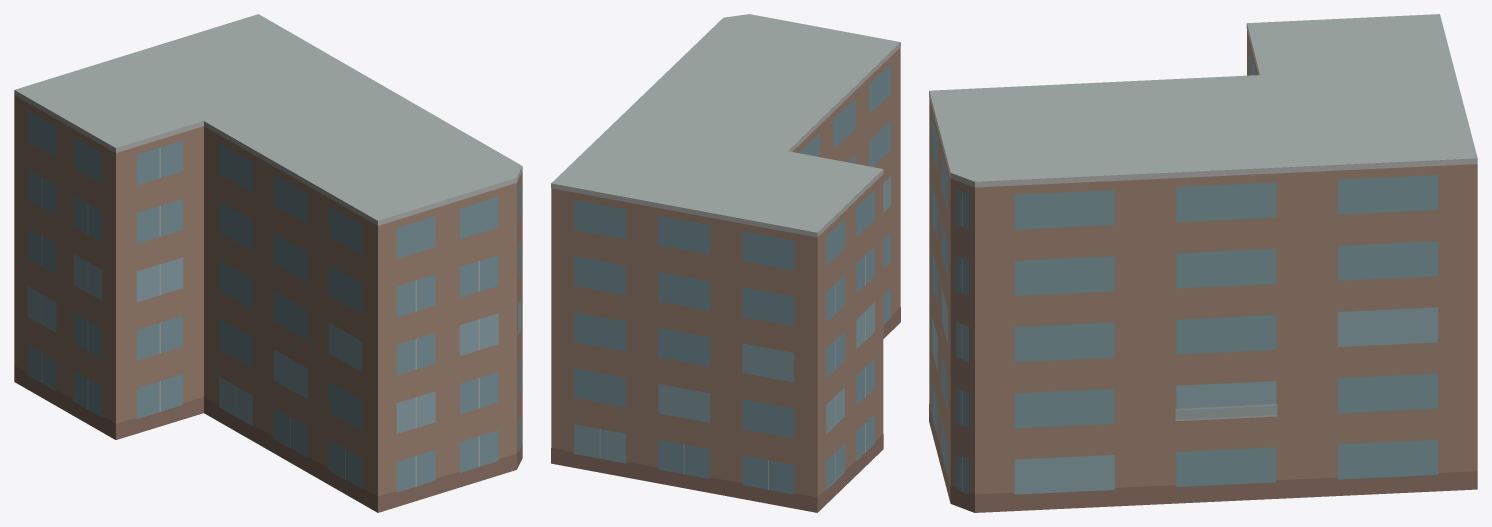
File: survey-upis-32632717.glb
3 views of the same model, side by side, from view 1: azimuth 30°, elevation 25°; view 2: azimuth 150°, elevation 25°; view 3: azimuth 270°, elevation 25° (orthographic). The views are drawn at different scales.
Visible parts, largest first — view 1: survey-upis-32632717.tmp; view 2: survey-upis-32632717.tmp; view 3: survey-upis-32632717.tmp.
Boxes of the visible parts, bbox=[...] form: survey-upis-32632717.tmp: bbox=[14, 14, 522, 512]; survey-upis-32632717.tmp: bbox=[551, 14, 900, 512]; survey-upis-32632717.tmp: bbox=[929, 14, 1477, 512].
Size of the model in its own units: 15.39 by 14.15 by 21.26.
